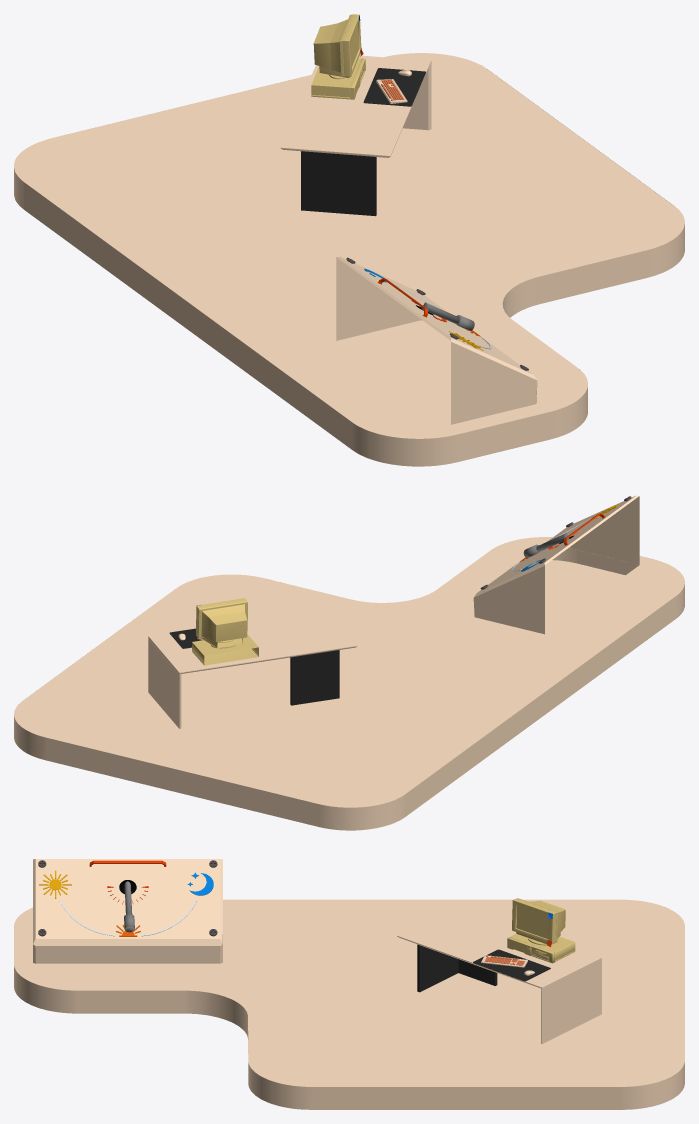
File: PrimaryIslandv1.glb
The picture shows the model from 3 angles, top to bottom: view 1: azimuth 30°, elevation 25°; view 2: azimuth 150°, elevation 25°; view 3: azimuth 270°, elevation 25°; orthographic projection. The views are drawn at different scales.
Parts seen in each view (by area): view 1: PrimaryIsland_Base, Desk, PrimaryIsland_console, diannao; view 2: PrimaryIsland_Base, Desk, PrimaryIsland_console, diannao; view 3: PrimaryIsland_Base, PrimaryIsland_console, Desk, diannao, CRTTV_SCREEN, PrimaryIsland_Lever.
Boxes of the visible parts, box(x1,y1,x2,y2) form: PrimaryIsland_Base: box(14, 53, 684, 466); Desk: box(280, 55, 431, 216); PrimaryIsland_console: box(336, 256, 537, 424); diannao: box(311, 14, 365, 99); PrimaryIsland_Base: box(14, 537, 684, 830); Desk: box(148, 609, 357, 728); PrimaryIsland_console: box(473, 495, 639, 634); diannao: box(192, 598, 258, 665); PrimaryIsland_Base: box(14, 899, 684, 1109); PrimaryIsland_console: box(33, 859, 222, 963); Desk: box(397, 906, 601, 1043); diannao: box(507, 898, 575, 963); CRTTV_SCREEN: box(516, 905, 548, 938); PrimaryIsland_Lever: box(124, 881, 134, 932).
Bounding box in the file's own units: 7 × 2.22 × 10.6.
